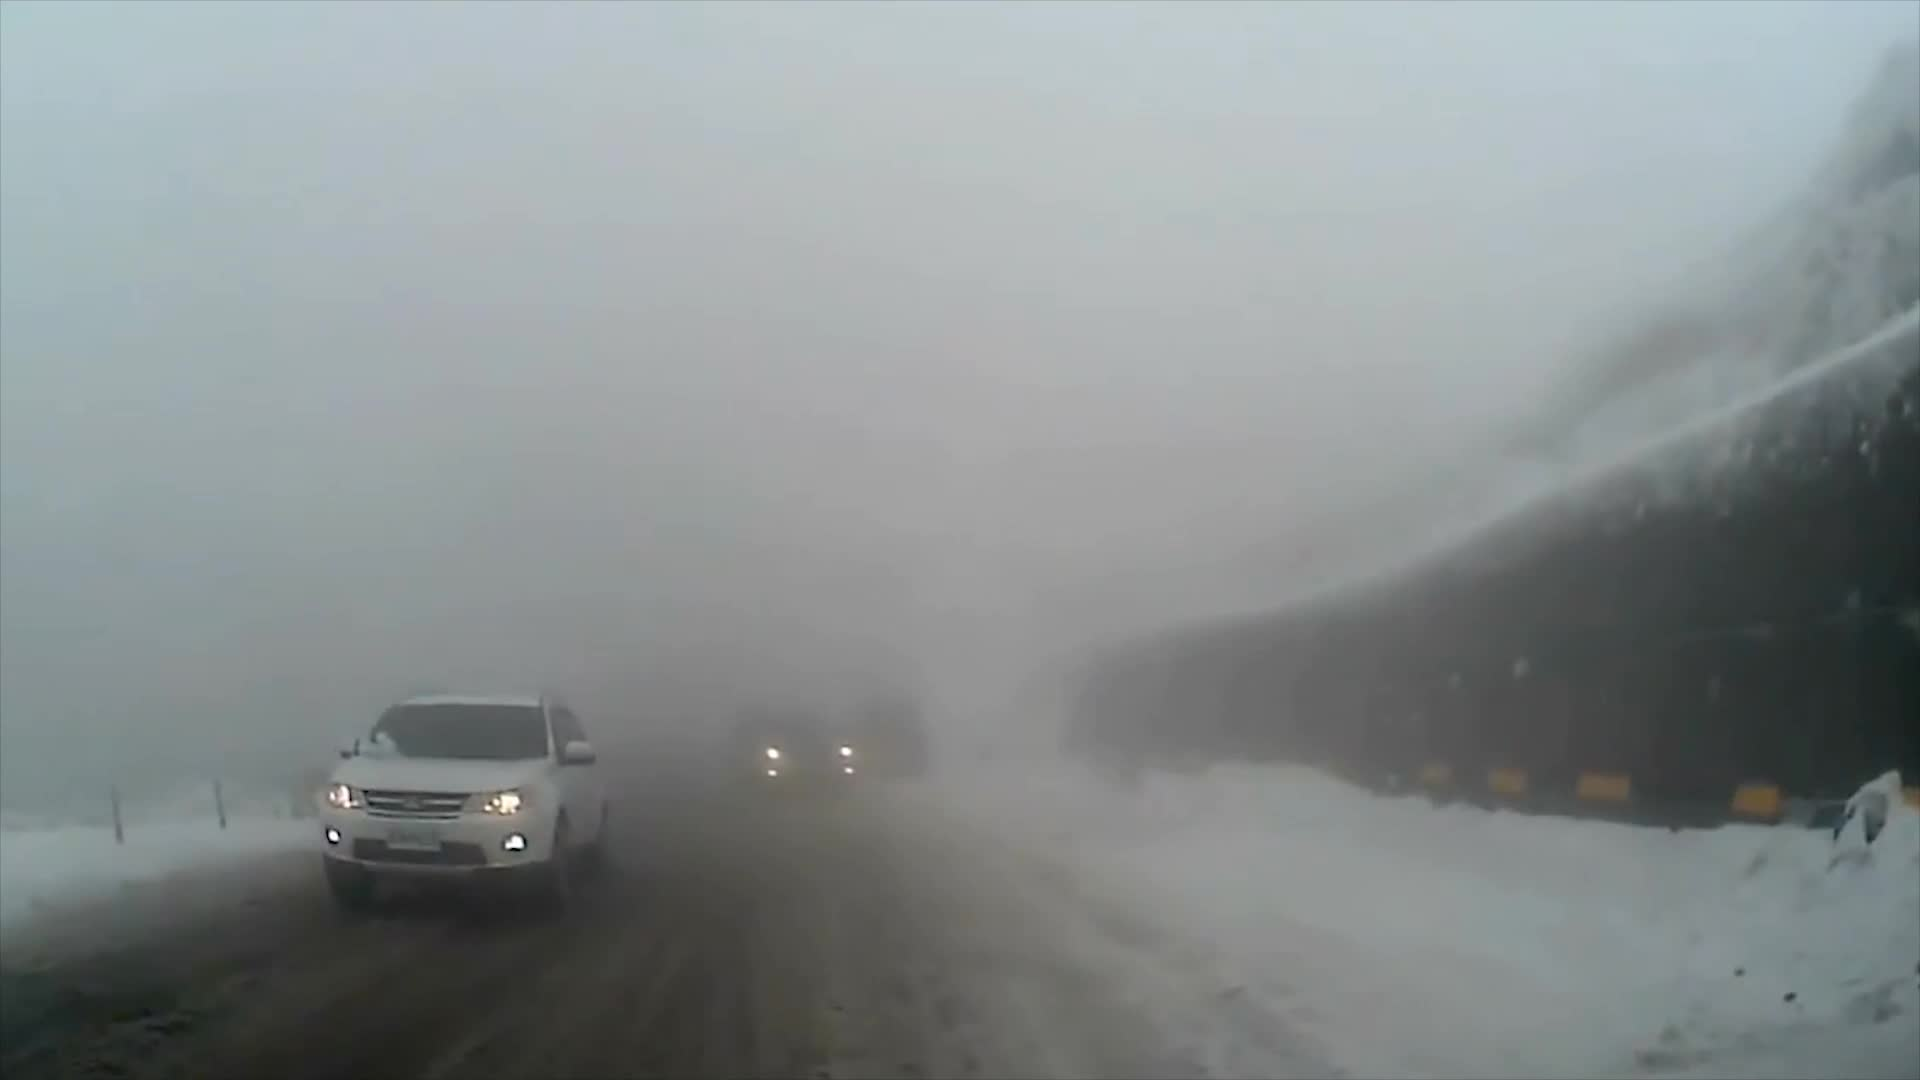vehicle: (313, 684, 611, 923), (717, 704, 858, 804)
